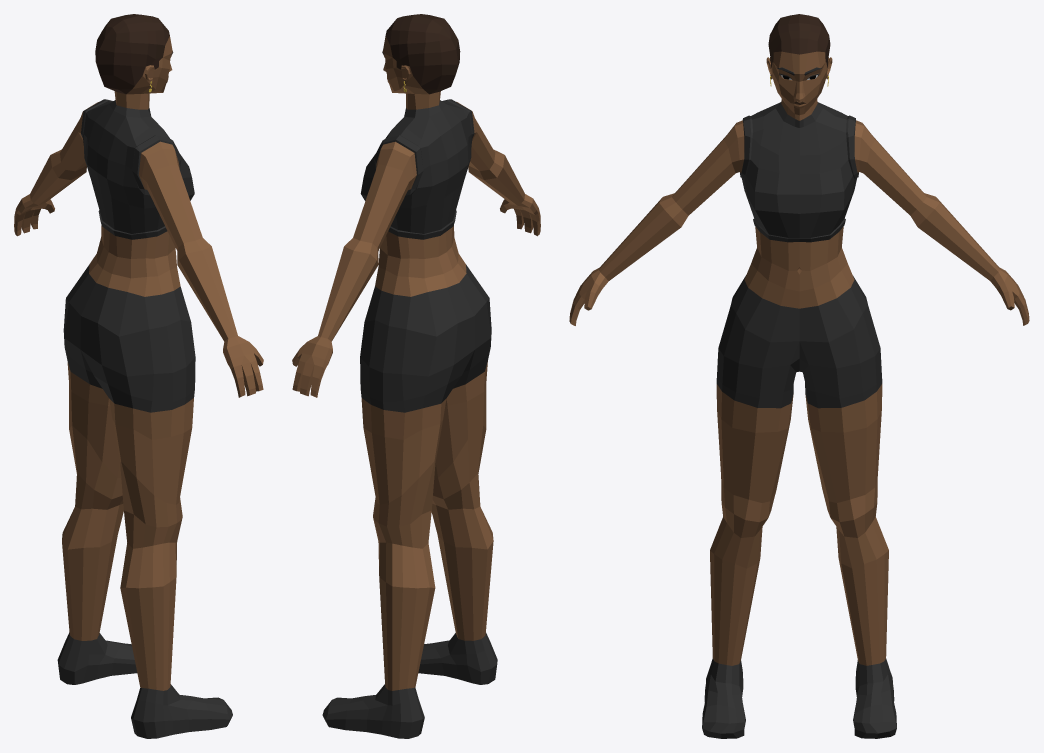
Rendered from Mariafbx.fbx.
3 views of the same model, side by side, from view 1: azimuth 30°, elevation 25°; view 2: azimuth 150°, elevation 25°; view 3: azimuth 270°, elevation 25° (orthographic).
Parts seen in each view (by area): view 1: Maria; view 2: Maria; view 3: Maria.
Boxes of the visible parts, box(x1,y1,x2,y2) form: Maria: box(14, 14, 263, 738); Maria: box(292, 14, 540, 738); Maria: box(569, 14, 1029, 738).
Bounding box in the file's own units: 161 × 943 × 567.
